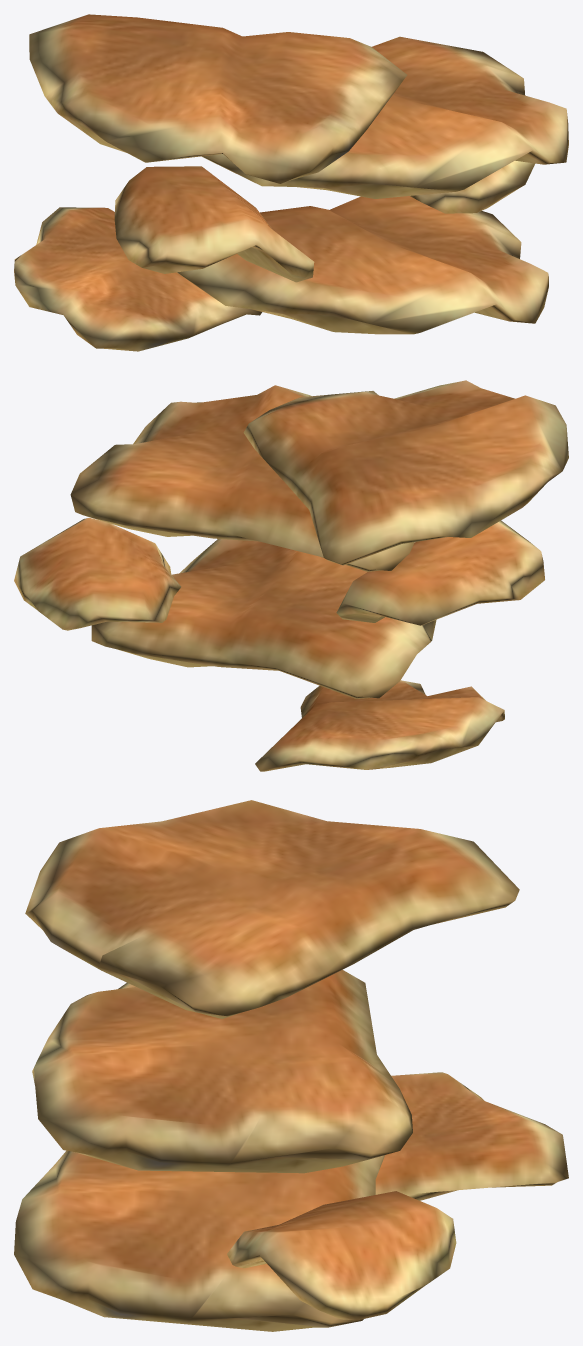
Rendered from mushrooms.glb.
The picture shows the model from 3 angles, top to bottom: view 1: azimuth 30°, elevation 25°; view 2: azimuth 150°, elevation 25°; view 3: azimuth 270°, elevation 25°; orthographic projection. The views are drawn at different scales.
Parts seen in each view (by area): view 1: Mushroom_Laetiporus; view 2: Mushroom_Laetiporus; view 3: Mushroom_Laetiporus.
Boxes of the visible parts, bbox=[...] form: Mushroom_Laetiporus: bbox=[14, 14, 568, 351]; Mushroom_Laetiporus: bbox=[14, 380, 568, 771]; Mushroom_Laetiporus: bbox=[14, 800, 568, 1331].
Size of the model in its own units: 1.35 by 0.7583 by 1.1.
1 material, 1 textured.
